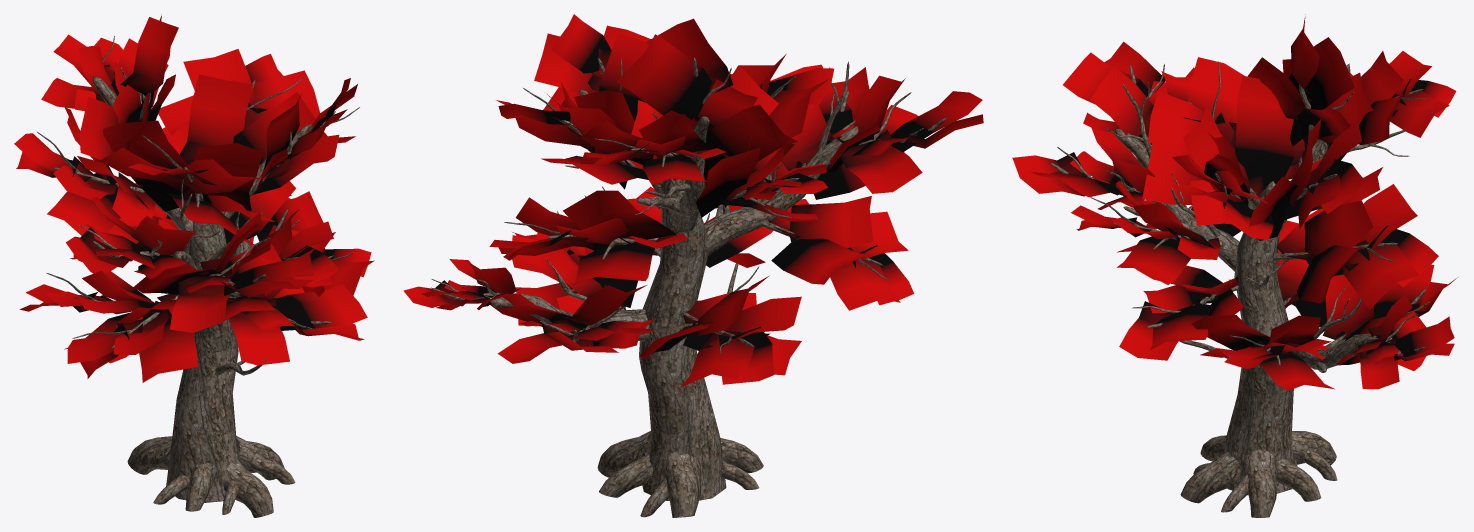
The model's file is SM_MediumOakRed_1.fbx.
3 renders of one model, left to right at view 1: azimuth 30°, elevation 25°; view 2: azimuth 150°, elevation 25°; view 3: azimuth 270°, elevation 25°, orthographic. The views are drawn at different scales.
Visible parts, largest first — view 1: medOak_treeRed_1; view 2: medOak_treeRed_1; view 3: medOak_treeRed_1.
Part boxes in pixels (bbox=[...]): medOak_treeRed_1: bbox=[14, 14, 374, 517]; medOak_treeRed_1: bbox=[403, 14, 983, 517]; medOak_treeRed_1: bbox=[1012, 14, 1457, 517].
Size of the model in its own units: 7.8 by 9.35 by 8.2.
